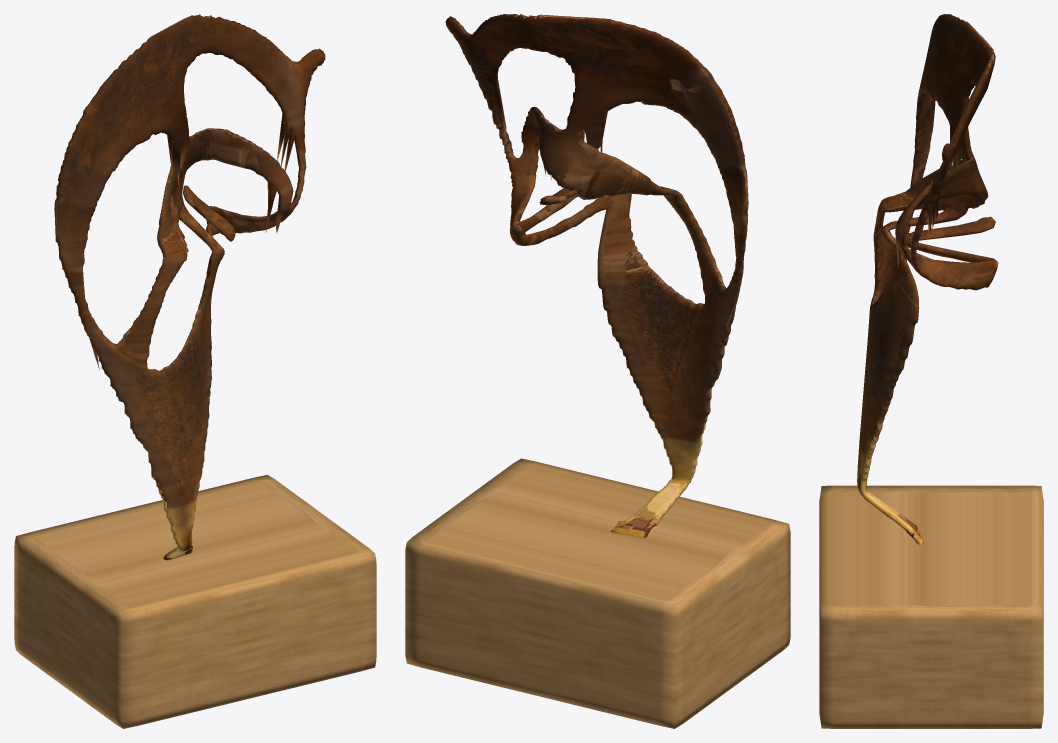
The model's file is escultura-esc-036.glb.
3 renders of one model, left to right at view 1: azimuth 30°, elevation 25°; view 2: azimuth 150°, elevation 25°; view 3: azimuth 270°, elevation 25°, orthographic. The views are drawn at different scales.
Parts seen in each view (by area): view 1: world; view 2: world; view 3: world.
Boxes of the visible parts, left/top/right/bottom form: world: left=14, top=14, right=376, bottom=728; world: left=405, top=14, right=790, bottom=728; world: left=819, top=14, right=1043, bottom=728.
Bounding box in the file's own units: 0.2112 × 0.4494 × 0.1448.
1 material, 1 textured.
